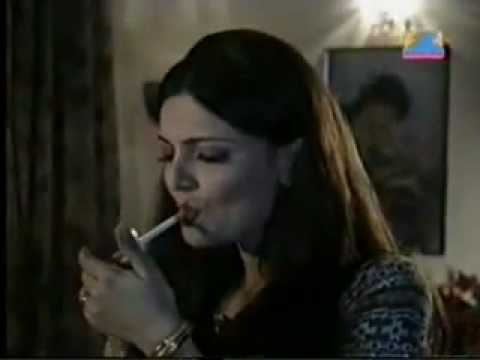cigarette: (116, 209, 193, 252)
